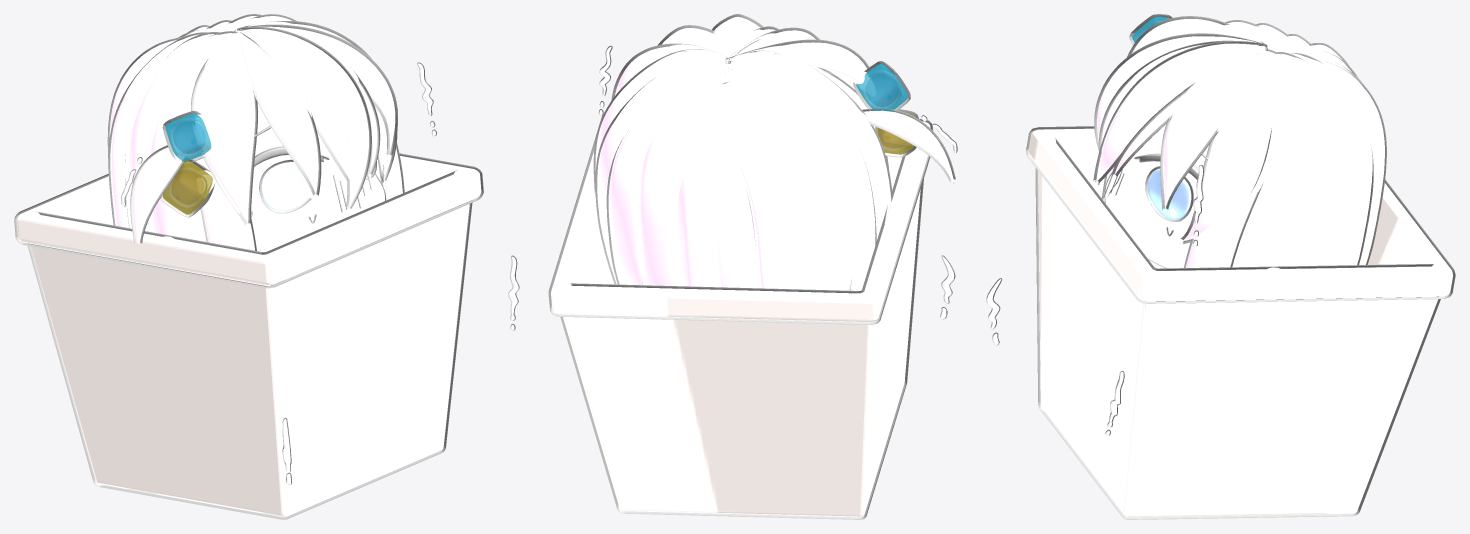
Rendered from bocchi_rubbish_bin-processed.glb.
The picture shows the model from 3 angles, left to right: view 1: azimuth 30°, elevation 25°; view 2: azimuth 150°, elevation 25°; view 3: azimuth 270°, elevation 25°; orthographic projection.
Parts seen in each view (by area): view 1: rubbishbin_0, outlines_2, object 4, object 2; view 2: rubbishbin_0, outlines_2, object 4, object 2; view 3: rubbishbin_0, outlines_2.
Boxes of the visible parts, x1,y1,x2,y2 form: rubbishbin_0: (16, 16, 518, 517); outlines_2: (14, 14, 519, 519); object 4: (162, 114, 212, 214); object 2: (172, 122, 203, 204); rubbishbin_0: (551, 16, 956, 517); outlines_2: (548, 14, 957, 519); object 4: (856, 64, 915, 154); object 2: (866, 74, 906, 147); rubbishbin_0: (987, 19, 1453, 517); outlines_2: (986, 14, 1455, 519).
Bounding box in the file's own units: 9.65 × 10.49 × 9.88.
4 materials, 2 textured.
